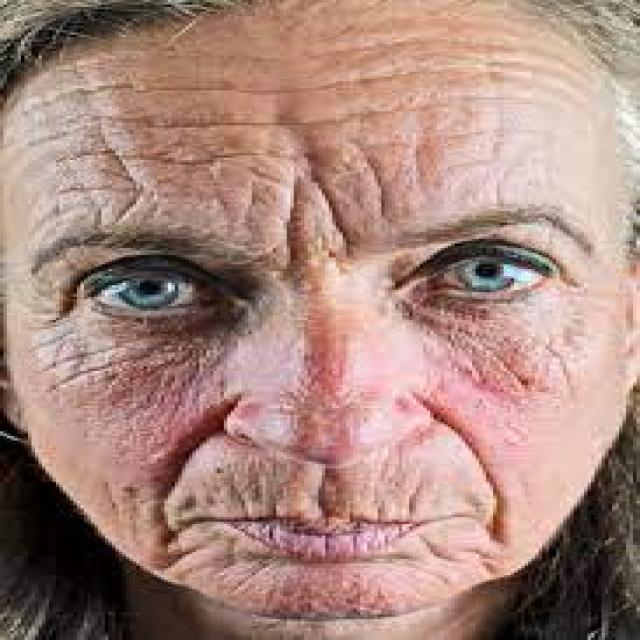Wrinkles: (3, 30, 609, 264), (444, 305, 616, 408), (18, 317, 193, 401), (153, 538, 201, 575)
